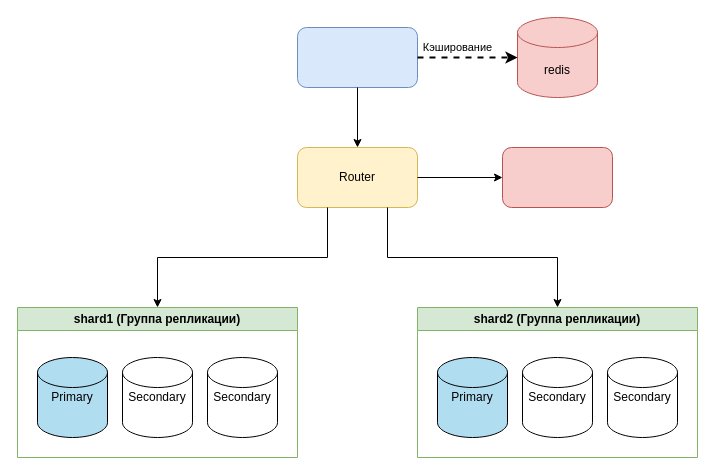
The diagram is 715 pixels wide and 475 high, and some of its shapes have lost their labels. The centre of each missing label's shape, as x and y in pixels:
configSrv: point 557,177
pymongo-api: point 357,57
